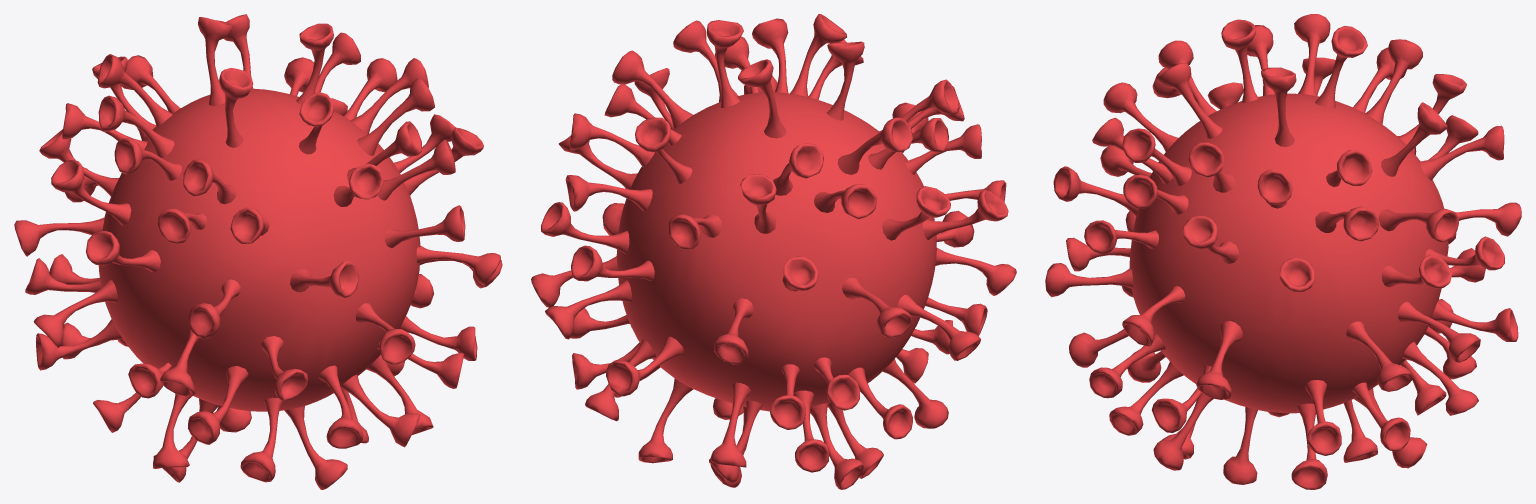
The model's file is covid19_simple_red.glb.
3 renders of one model, left to right at view 1: azimuth 30°, elevation 25°; view 2: azimuth 150°, elevation 25°; view 3: azimuth 270°, elevation 25°, orthographic.
Visible parts, largest first — view 1: Node; view 2: Node; view 3: Node.
Boxes of the visible parts, <box> form: Node: <box>14,14,502,489</box>; Node: <box>531,14,1016,489</box>; Node: <box>1045,14,1521,489</box>.
Size of the model in its own units: 56.96 by 55.01 by 56.28.
